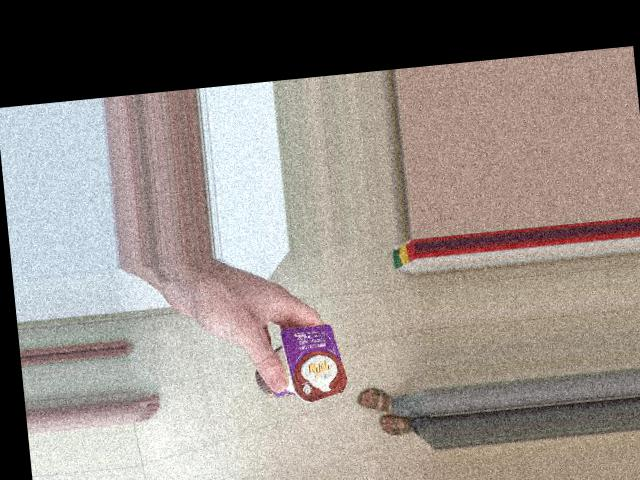milky: (236, 319, 354, 406)
